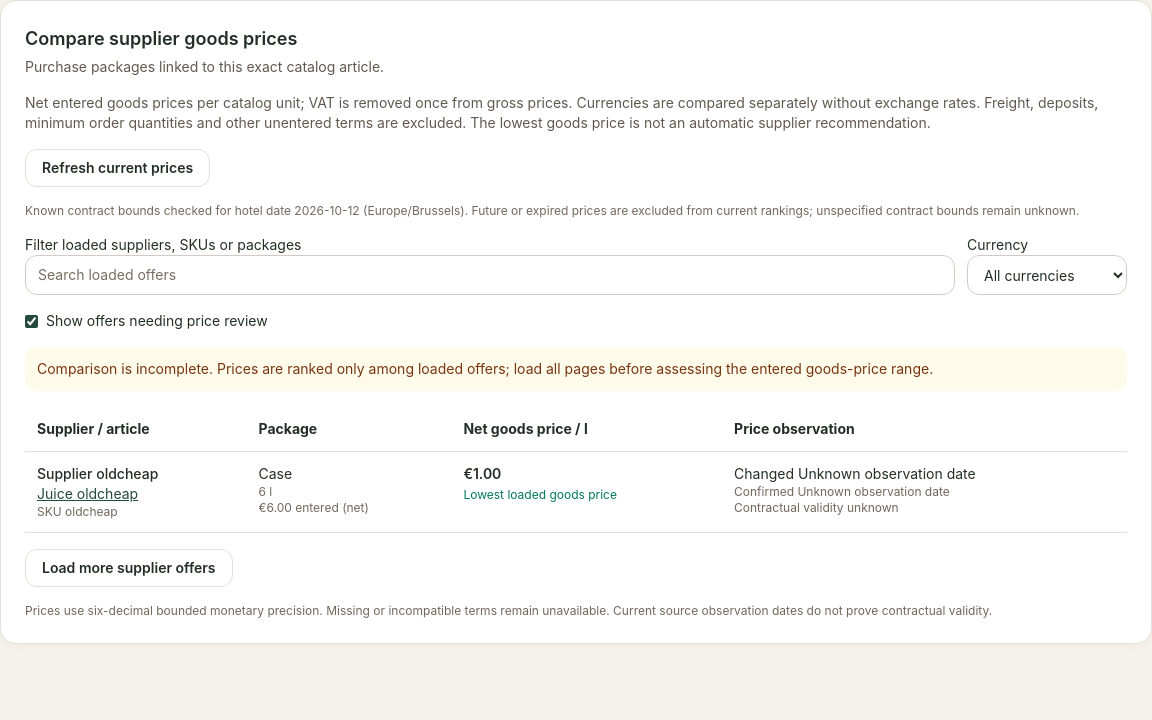
Scenario: supplier price insight workflows › restarts pagination when the hotel calendar assessment changes instead of mixing yesterday's eligibility with today's
expect the link "Juice oldcheap" is shown: met, box [37, 485, 138, 502]
Click the button "Load more supplier offers": (129, 568) [25, 549, 232, 587]
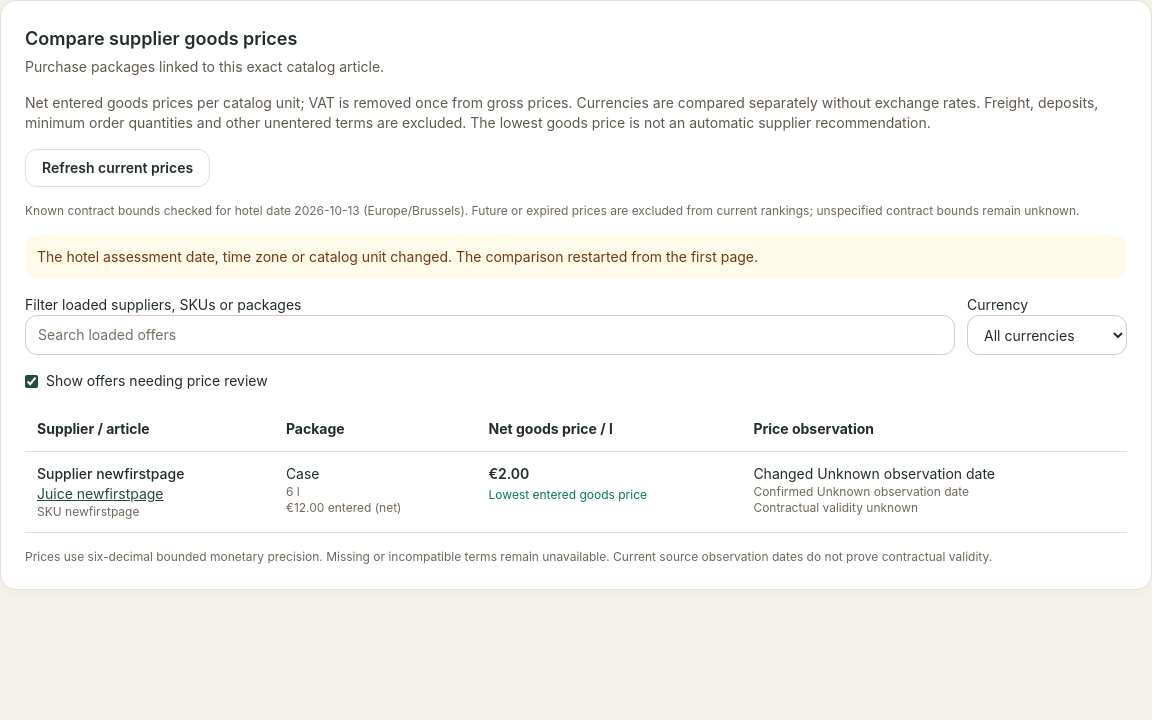
expect the link "Juice newfirstpage" is shown: met, box [37, 485, 164, 502]
expect the link "Juice oldcheap" is gone: met
expect the text "comparison restarted from the first page" is shown: met, box [37, 248, 758, 265]
